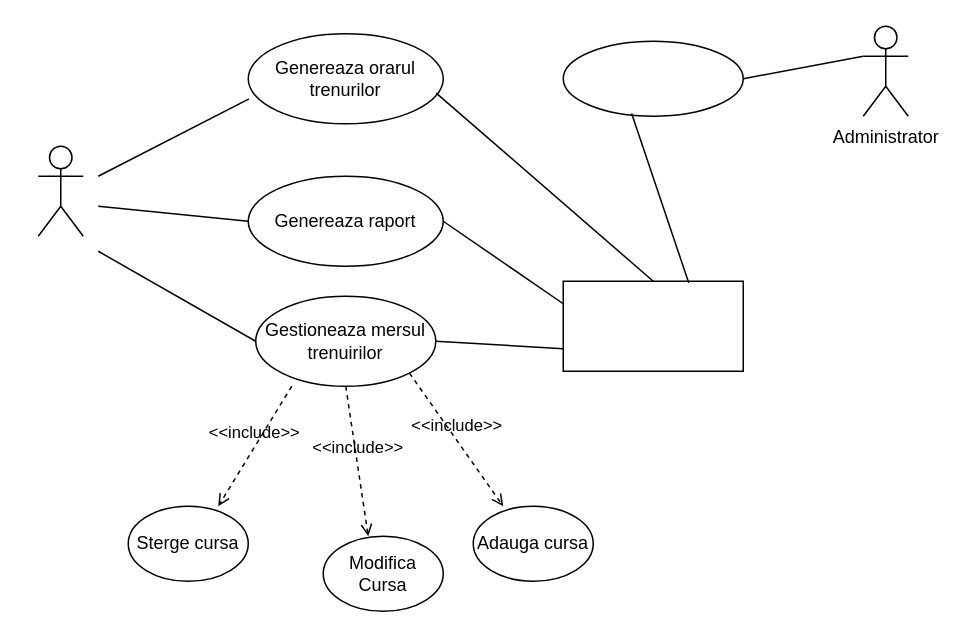
Image size: 965x638. Some labels were removed from this diagram. Each missing label, with the centre of its shape:
Defineste reguli de circulatie: the point at 652,78
Operator: the point at 60,190
Sistem de gestiune a mersului trenurilor: the point at 652,325
